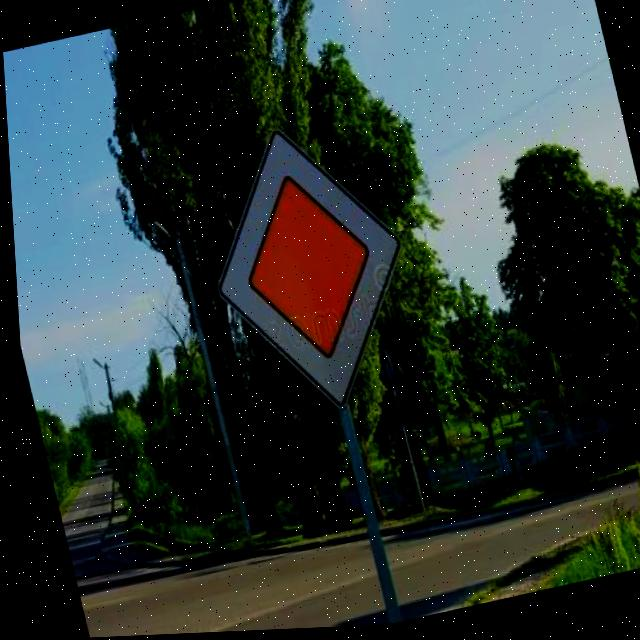signs: (180, 111, 433, 432)
